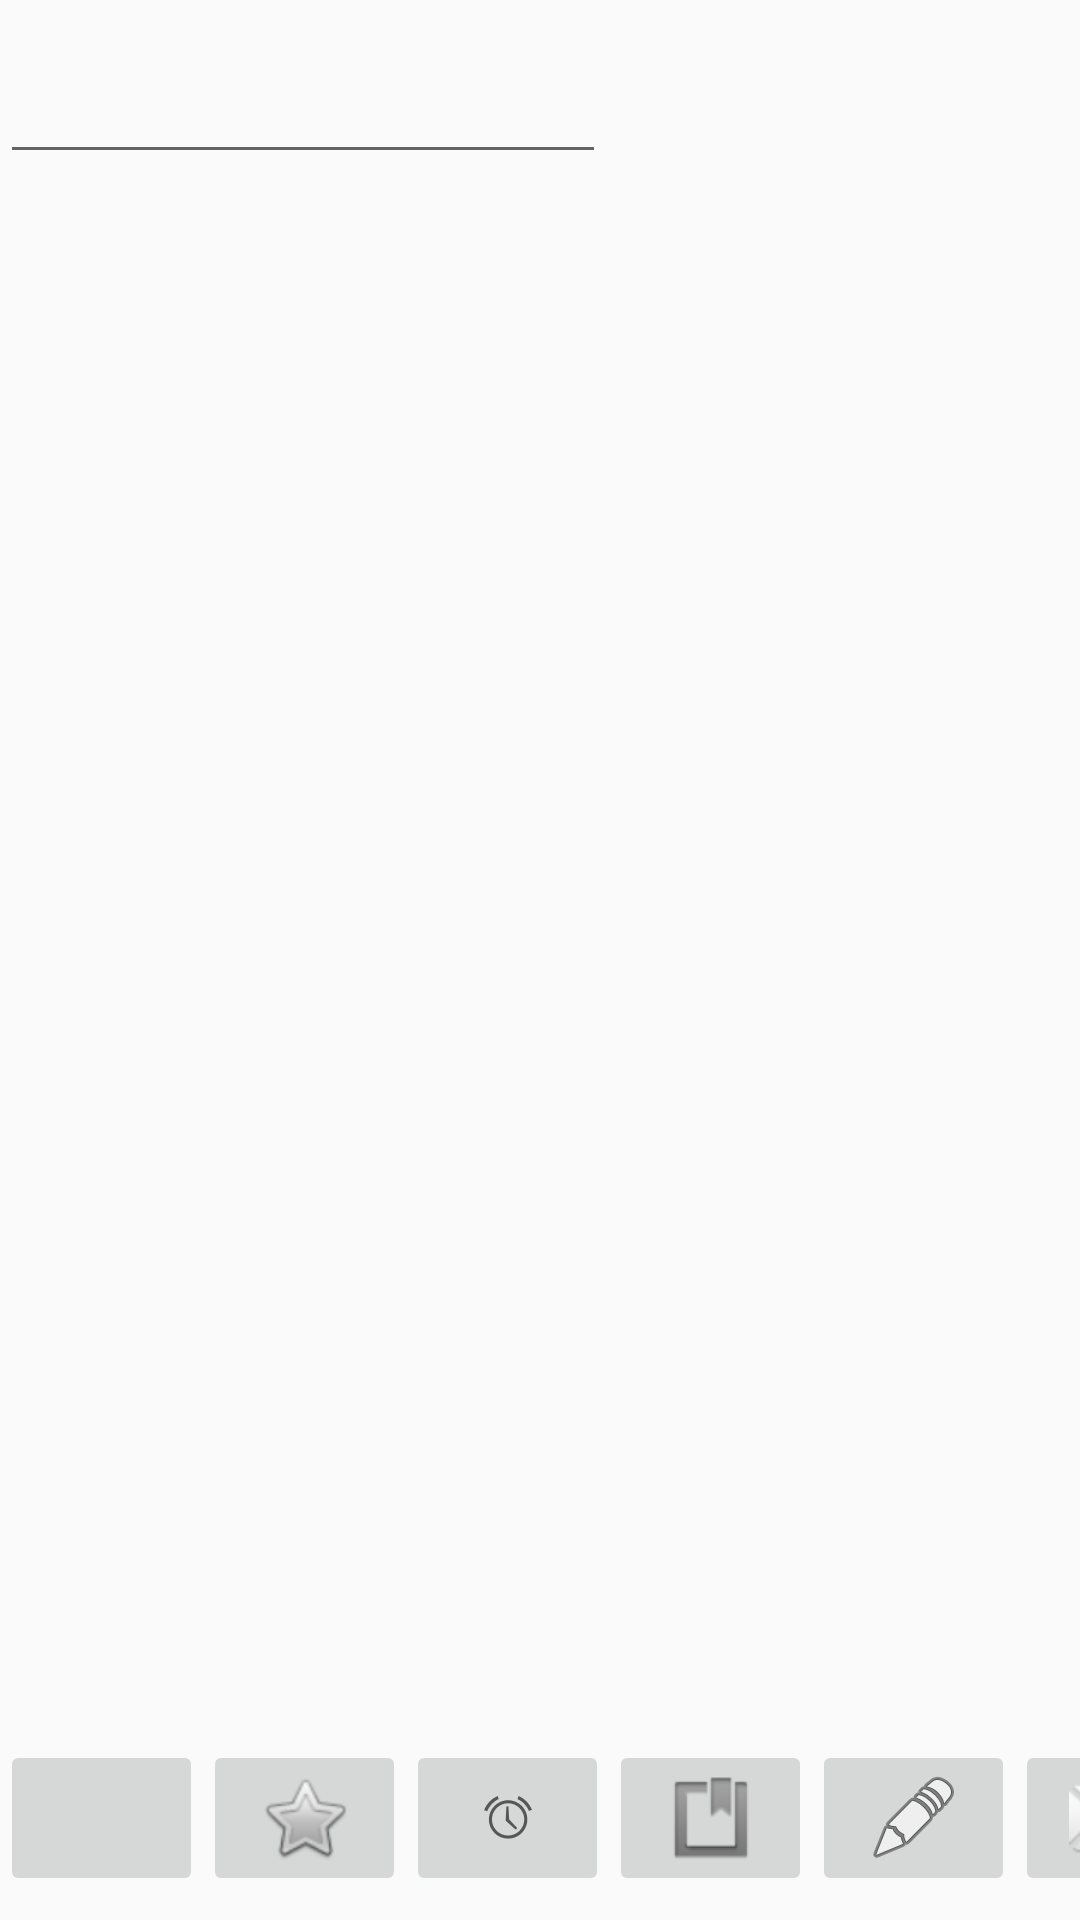

Icons on this 1080 x 1920 Android screen, each with its box as box(x1, y1, x2, y2):
edit: box(824, 1758, 1003, 1878)
lock idle alarm: box(418, 1758, 597, 1878)
star: box(215, 1758, 394, 1878)
